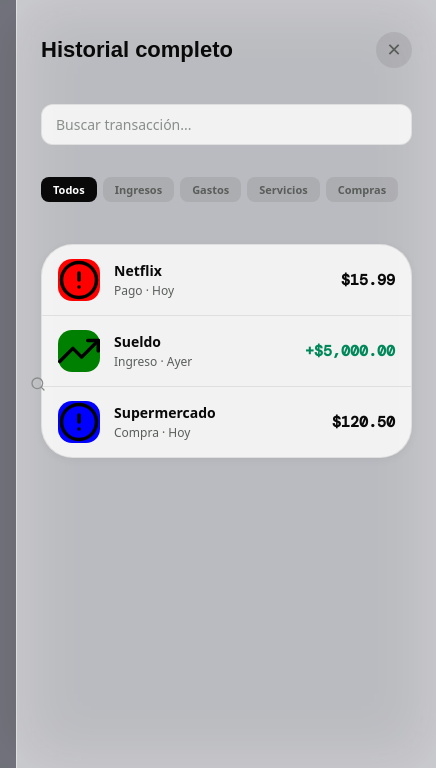
Scenario: ActivityPanel › shows empty state when no results found
Type "ZXZX" into the field with placeholder "Buscar transacción..." at (226, 124), box x1=56 y1=115 x2=397 y2=134
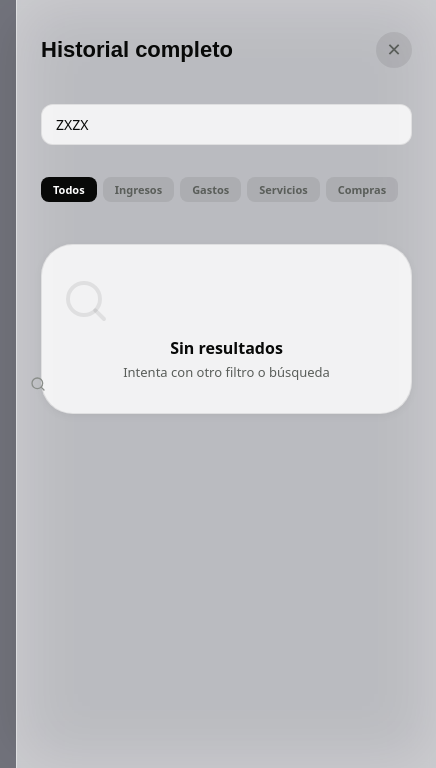
Now the text "Sin resultados" is shown, box x1=170 y1=337 x2=283 y2=359
